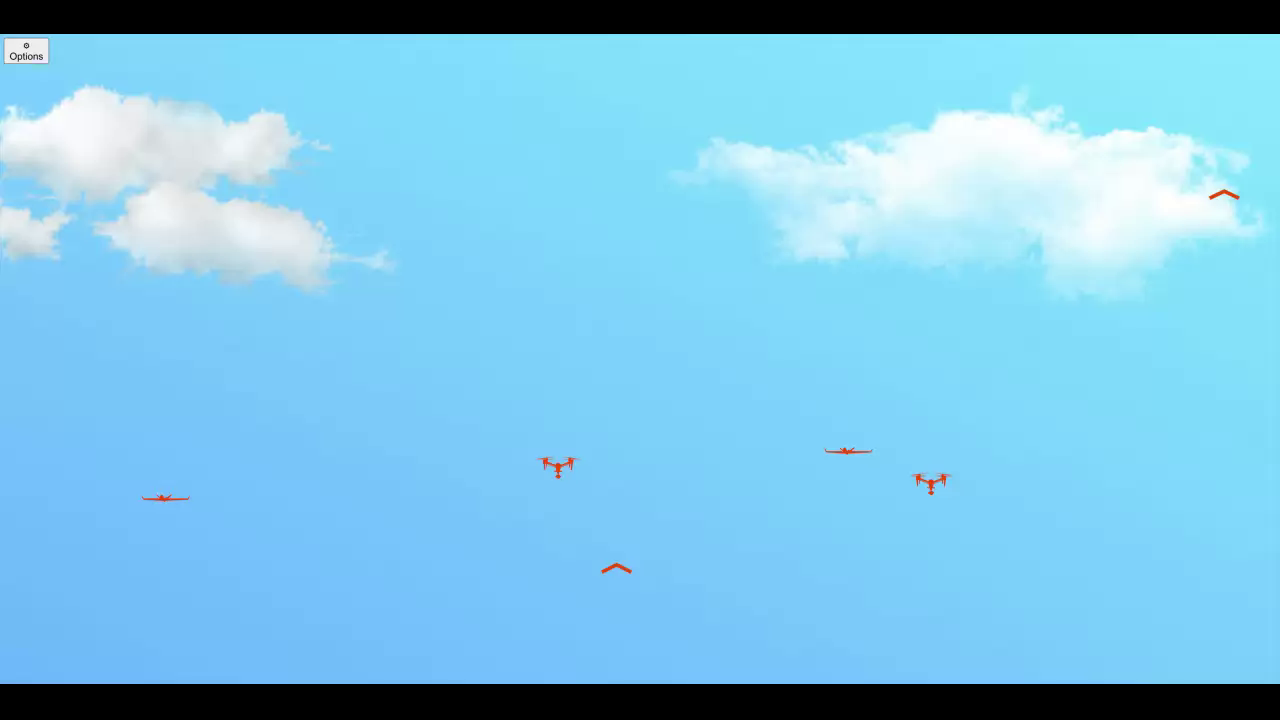Bird: (592, 545, 641, 585), (1200, 171, 1245, 207)
Drone: (814, 429, 888, 475), (130, 479, 201, 514)
Quadcopter: (896, 461, 962, 501), (531, 449, 578, 481)
